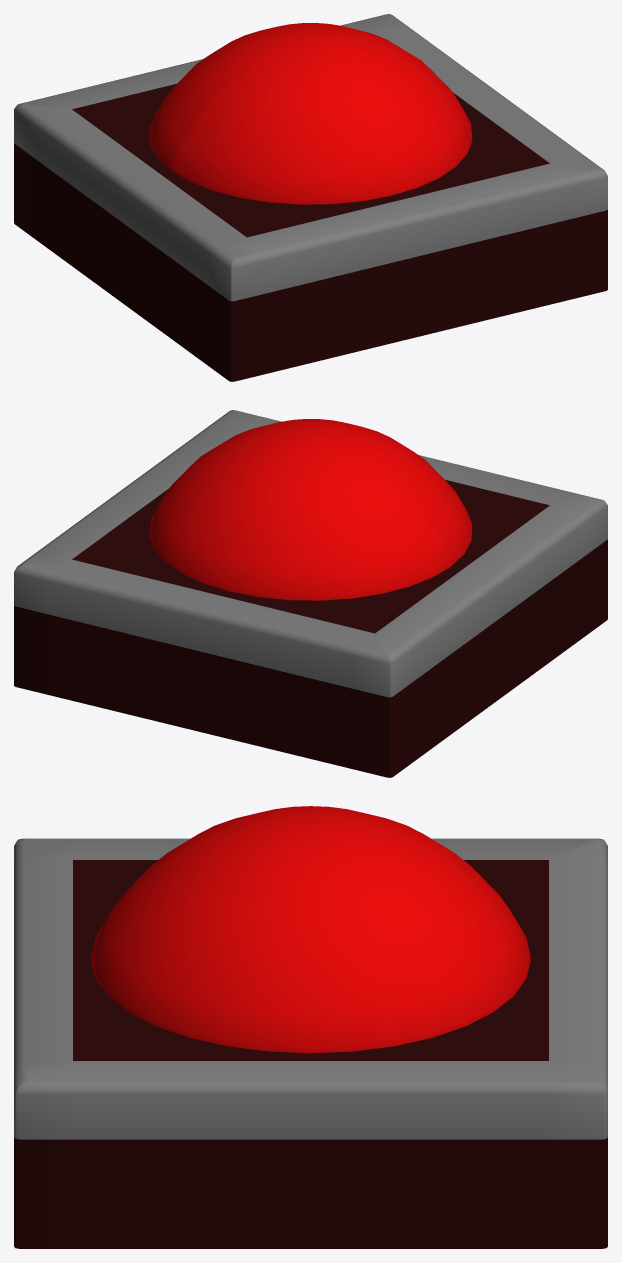
File: Button.fbx
The picture shows the model from 3 angles, top to bottom: view 1: azimuth 30°, elevation 25°; view 2: azimuth 150°, elevation 25°; view 3: azimuth 270°, elevation 25°; orthographic projection. The views are drawn at different scales.
Parts seen in each view (by area): view 1: Cube; view 2: Cube; view 3: Cube.
Part boxes in pixels (x1=…): Cube: x1=14, y1=14, x2=607, y2=381; Cube: x1=14, y1=410, x2=607, y2=777; Cube: x1=14, y1=806, x2=607, y2=1248.
Bounding box in the file's own units: 2 × 1.09 × 2.
